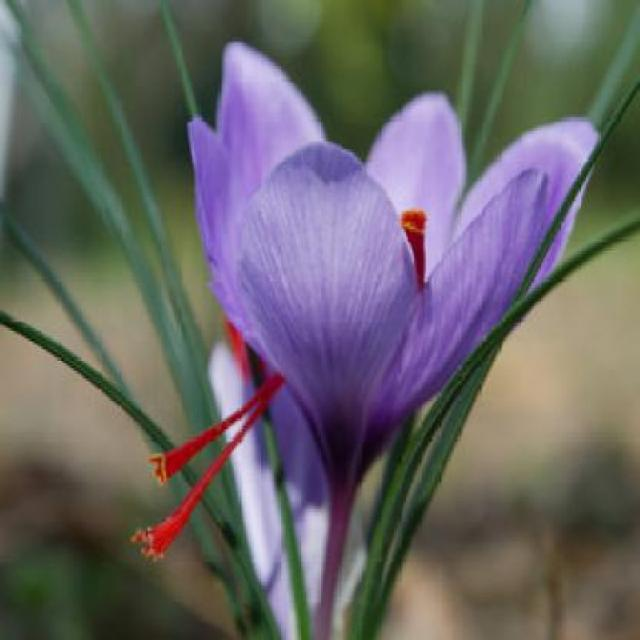Flower: (186, 40, 604, 482)
stigma: (130, 389, 277, 561), (148, 371, 280, 484), (399, 207, 430, 293)
